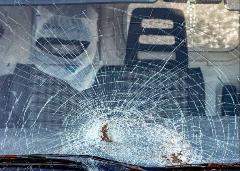glass: (0, 0, 240, 166)
